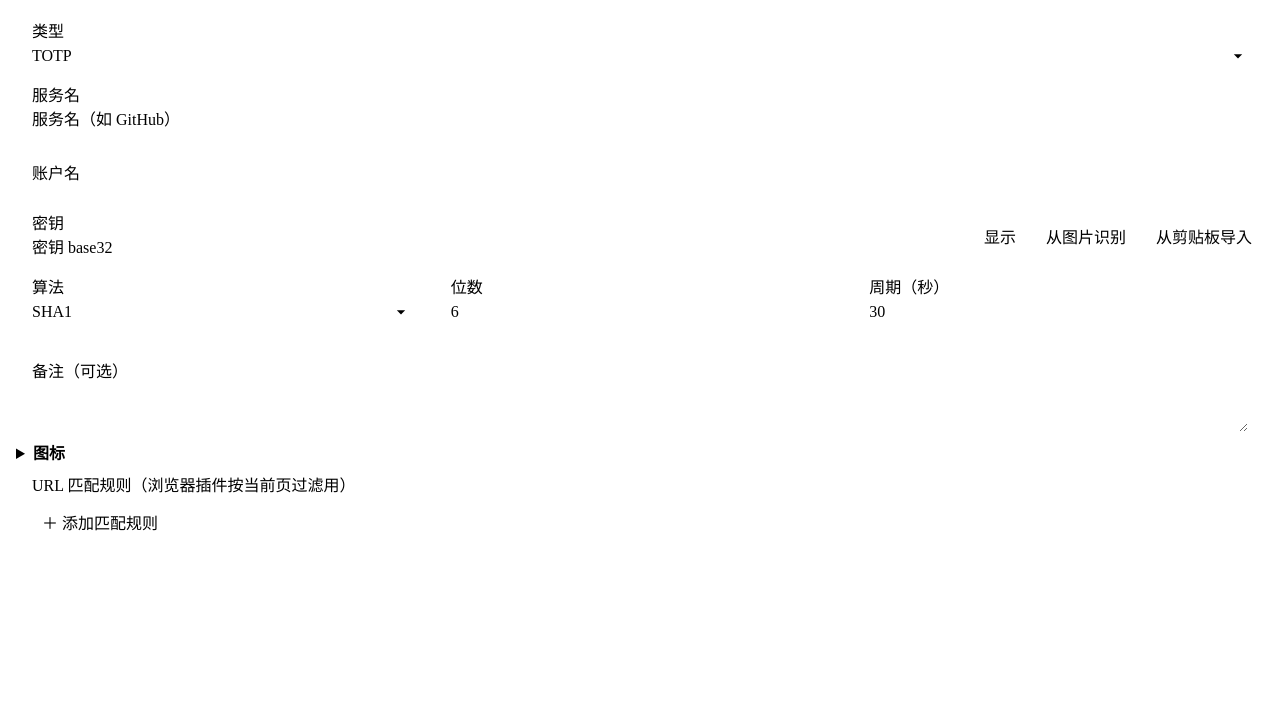
Test: EntryForm 剪贴板三意图 › error：空剪贴板 → 「剪贴板没有可用内容」；解析失败消息透传
This screenshot has width=1280, height=720.
Click the button with test id "clipboard-pick" at (1204, 236), box 1144,216 -> 1264,256
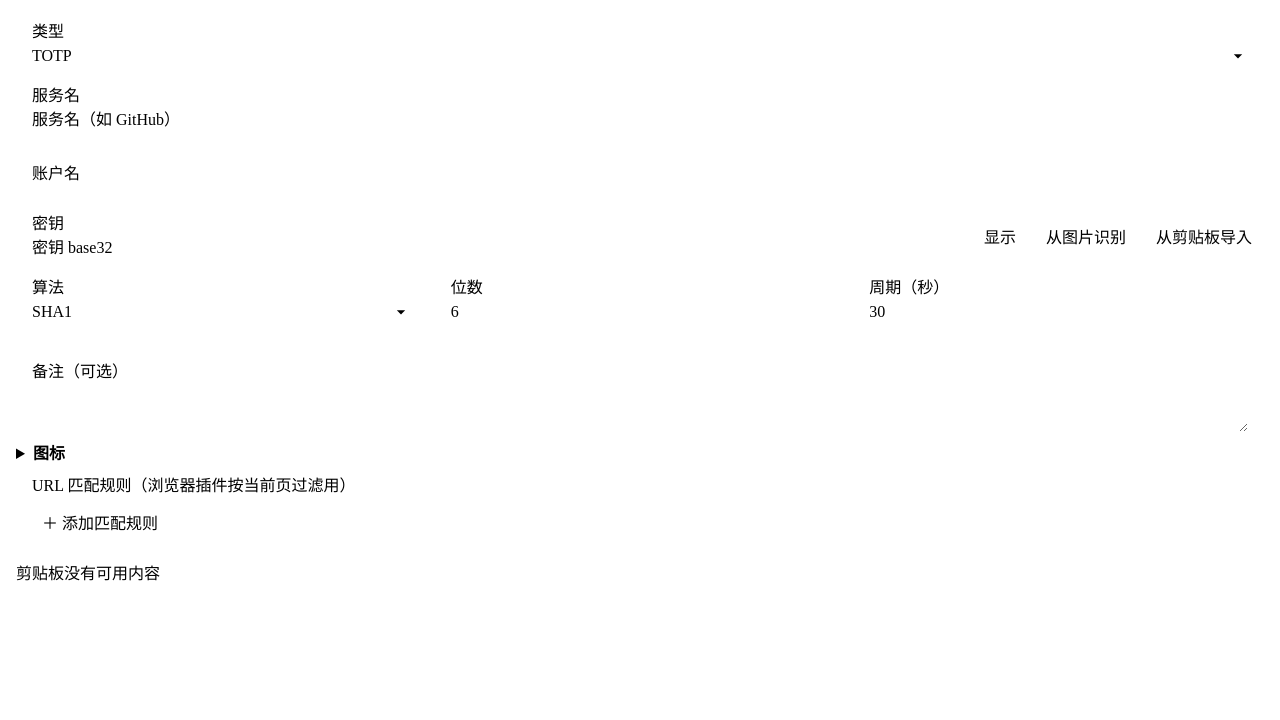
Now the text "剪贴板没有可用内容" is shown, box 16,565 -> 160,582
Click the button with test id "clipboard-pick" at (1204, 236), box 1144,216 -> 1264,256
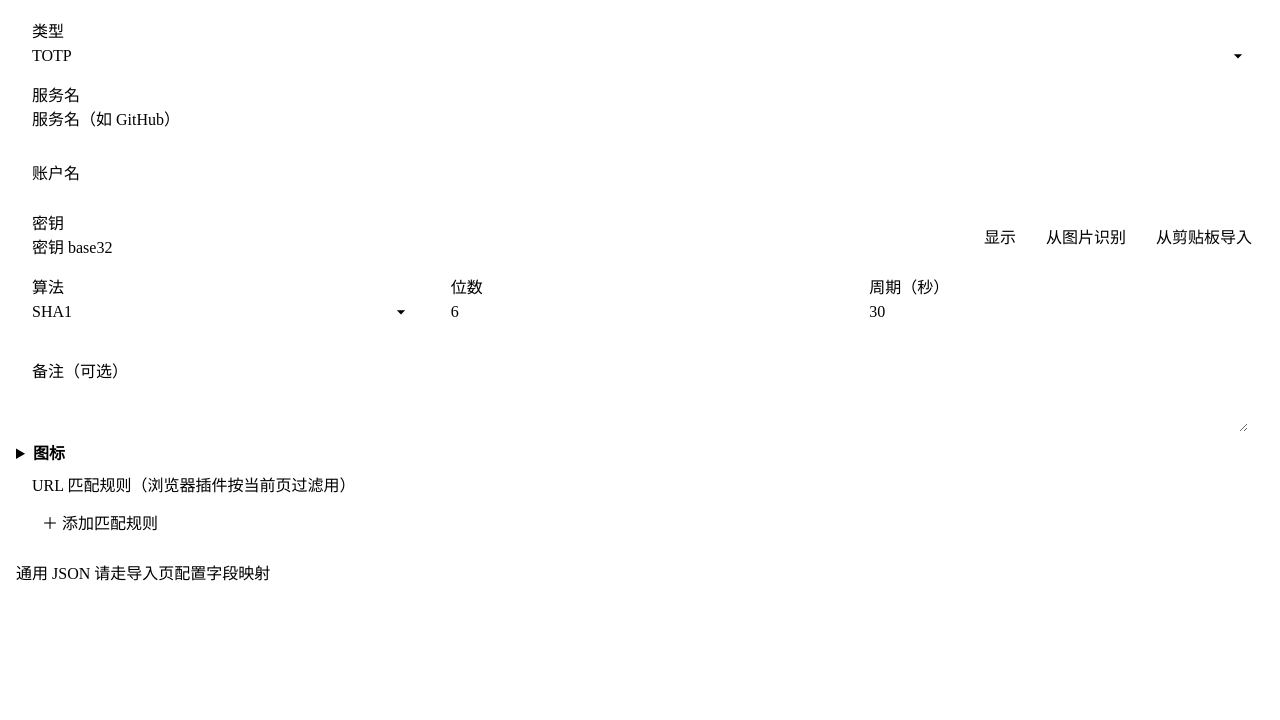
Now the text "通用 JSON" is shown, box 16,565 -> 270,582
